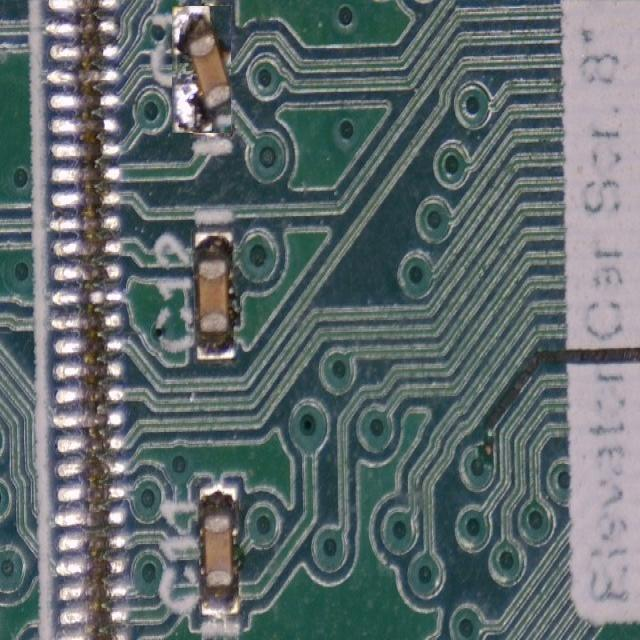Incorrect_installation: (171, 5, 231, 133)
